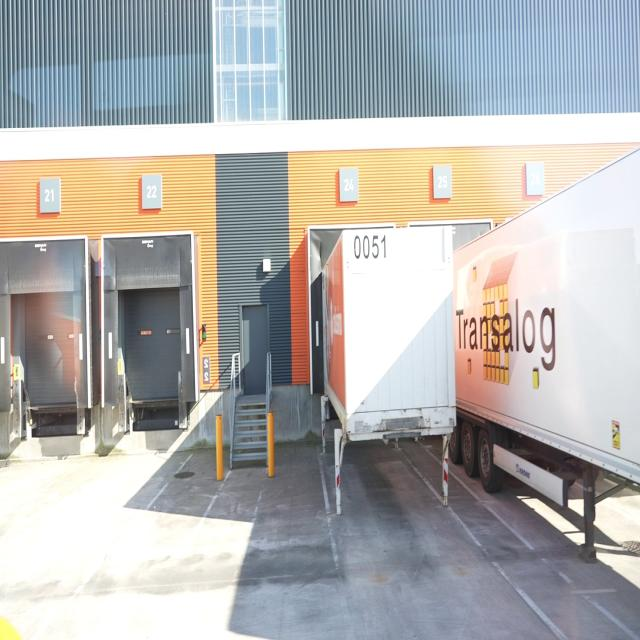Code: (351, 230, 391, 264)
